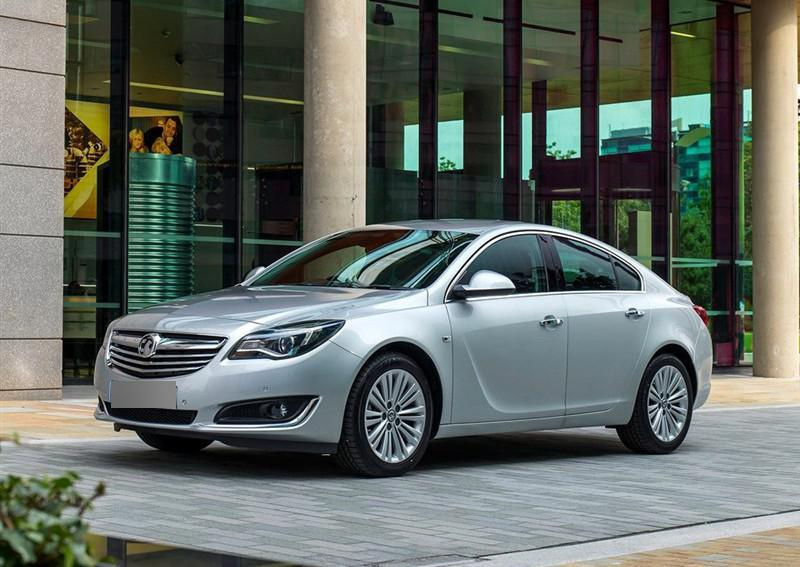Wagon: (90, 218, 712, 478)
